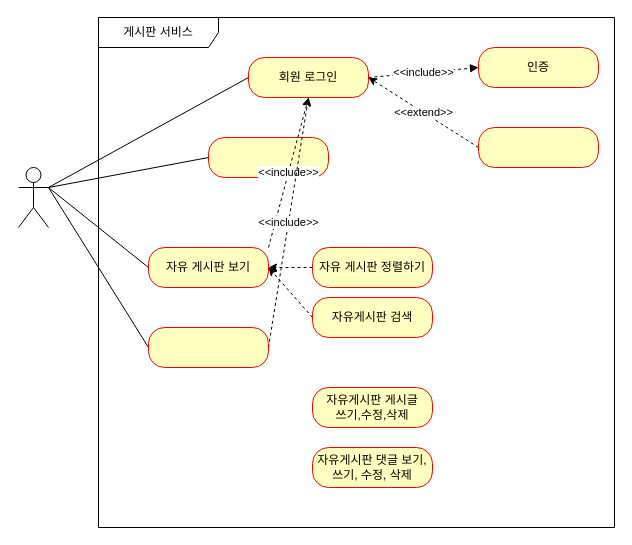
Image size: 632x545. Some labels were removed from this diagram. Here are the shapes that lost their labels. From the top down, the box of each, then its label:
(208, 136, 328, 178): 회원가입
(478, 126, 598, 168): 로그인 실패
(18, 166, 48, 228): 이용자
(148, 326, 268, 368): 자유게시판 게시글 보기
